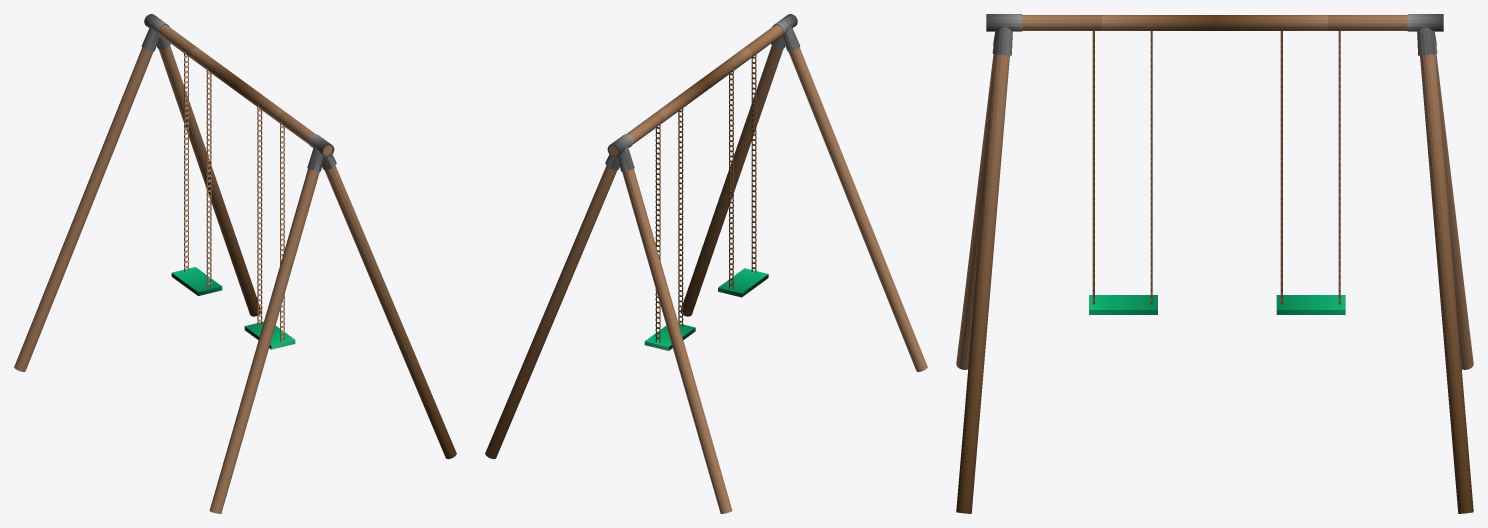
Rendered from Columpio.fbx.
The picture shows the model from 3 angles, left to right: view 1: azimuth 30°, elevation 25°; view 2: azimuth 150°, elevation 25°; view 3: azimuth 270°, elevation 25°; orthographic projection. The views are drawn at different scales.
Parts seen in each view (by area): view 1: Cylinder.005; view 2: Cylinder.005; view 3: Cylinder.005.
Boxes of the visible parts, bbox=[...] form: Cylinder.005: bbox=[14, 14, 456, 513]; Cylinder.005: bbox=[485, 14, 927, 513]; Cylinder.005: bbox=[956, 14, 1473, 513].
Bounding box in the file's own units: 629 × 820 × 895.
Materials: 3 (3 with a texture image).
